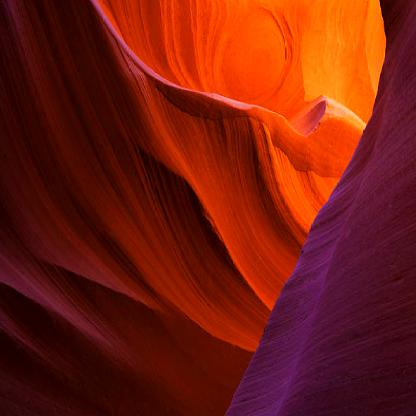Sedimentary_Sandstone: (105, 167, 238, 332), (72, 17, 236, 142), (328, 165, 408, 357), (0, 70, 58, 310)
